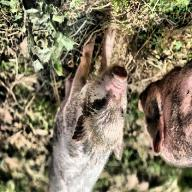boar: (43, 25, 136, 192), (137, 63, 192, 168)
